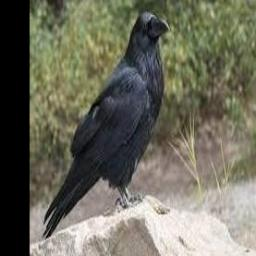Crow: (43, 11, 170, 241)
